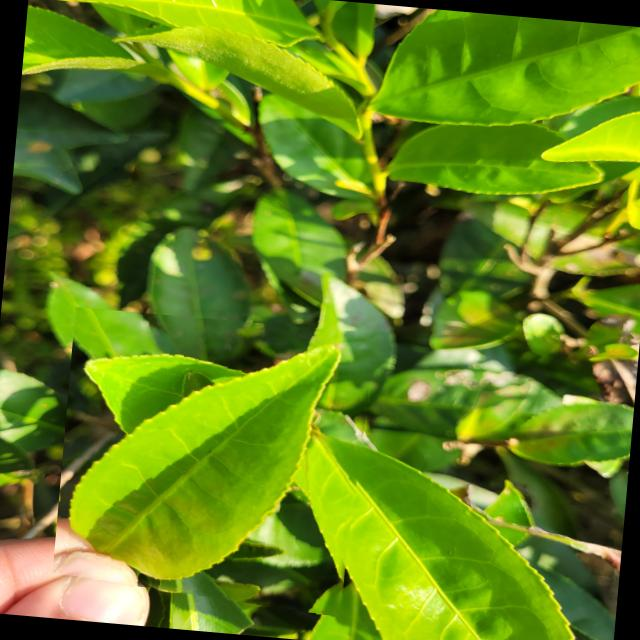Category B(2-4 days): (48, 306, 374, 618)
